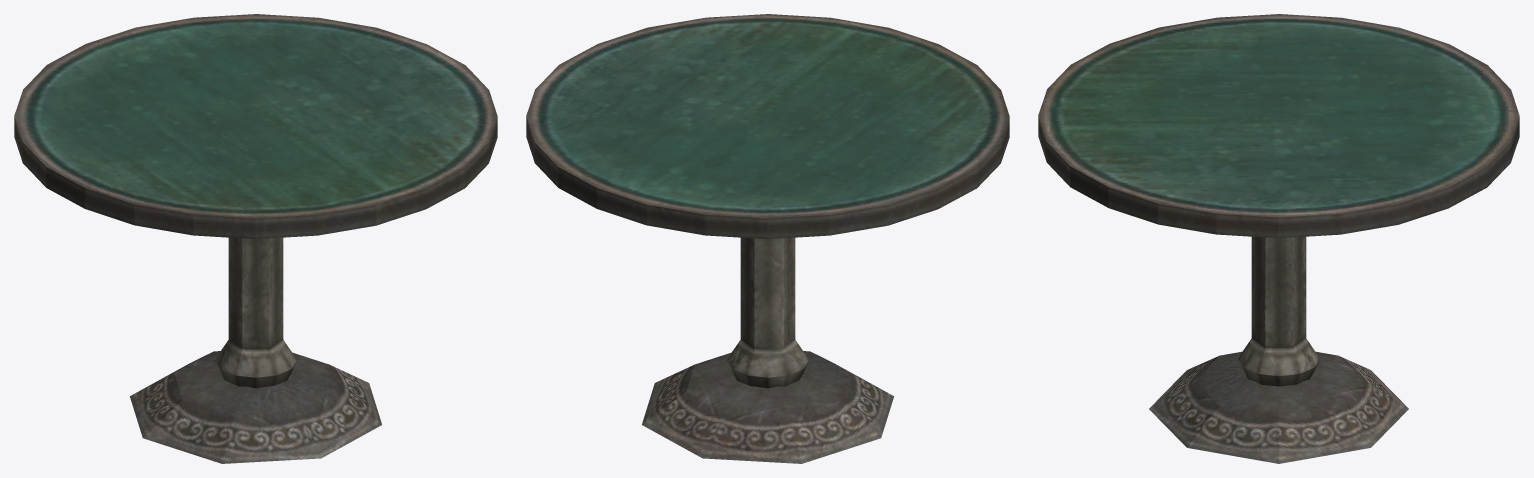
File: bg_lut_lucastle_table03_sm_artree.FBX
3 views of the same model, side by side, from view 1: azimuth 30°, elevation 25°; view 2: azimuth 150°, elevation 25°; view 3: azimuth 270°, elevation 25° (orthographic).
Parts seen in each view (by area): view 1: bg_lut_lucastle_table03_sm_artree; view 2: bg_lut_lucastle_table03_sm_artree; view 3: bg_lut_lucastle_table03_sm_artree.
Boxes of the visible parts, box(x1,y1,x2,y2) form: bg_lut_lucastle_table03_sm_artree: box(14, 14, 497, 463); bg_lut_lucastle_table03_sm_artree: box(526, 14, 1009, 463); bg_lut_lucastle_table03_sm_artree: box(1038, 14, 1519, 463).
Size of the model in its own units: 123 by 82.62 by 123.
